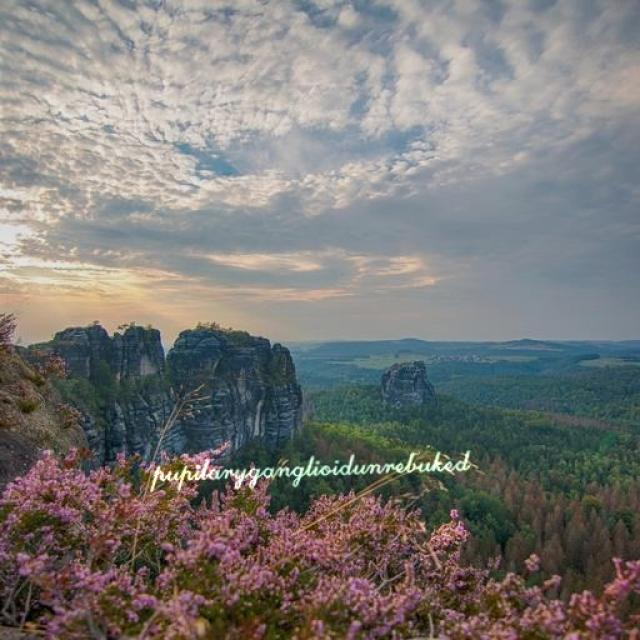watermark: (146, 448, 468, 484)
